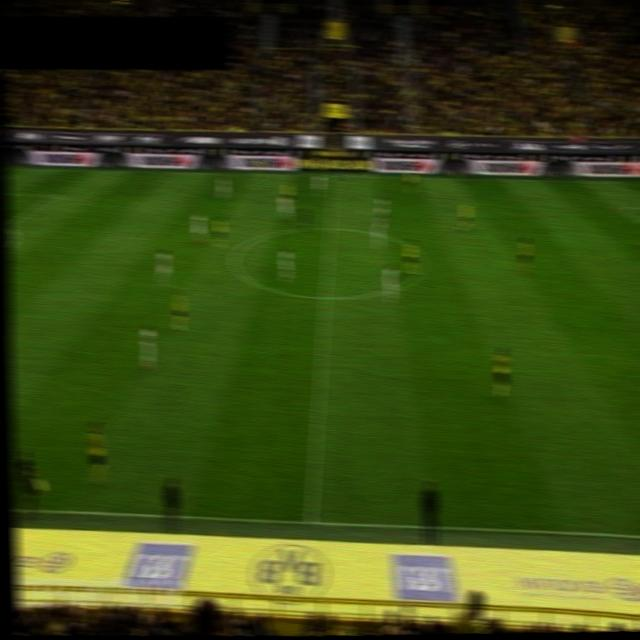bigarea_top_inner: (609, 201, 625, 213), (45, 190, 64, 200)
halfcircle_bottom: (317, 290, 333, 302)
halfcircle_top: (321, 221, 338, 233)
midline_bottom_intersection: (303, 512, 318, 524)
midline_top_intersection: (324, 169, 340, 180)
top_arc_area_intersection: (6, 221, 13, 232)
